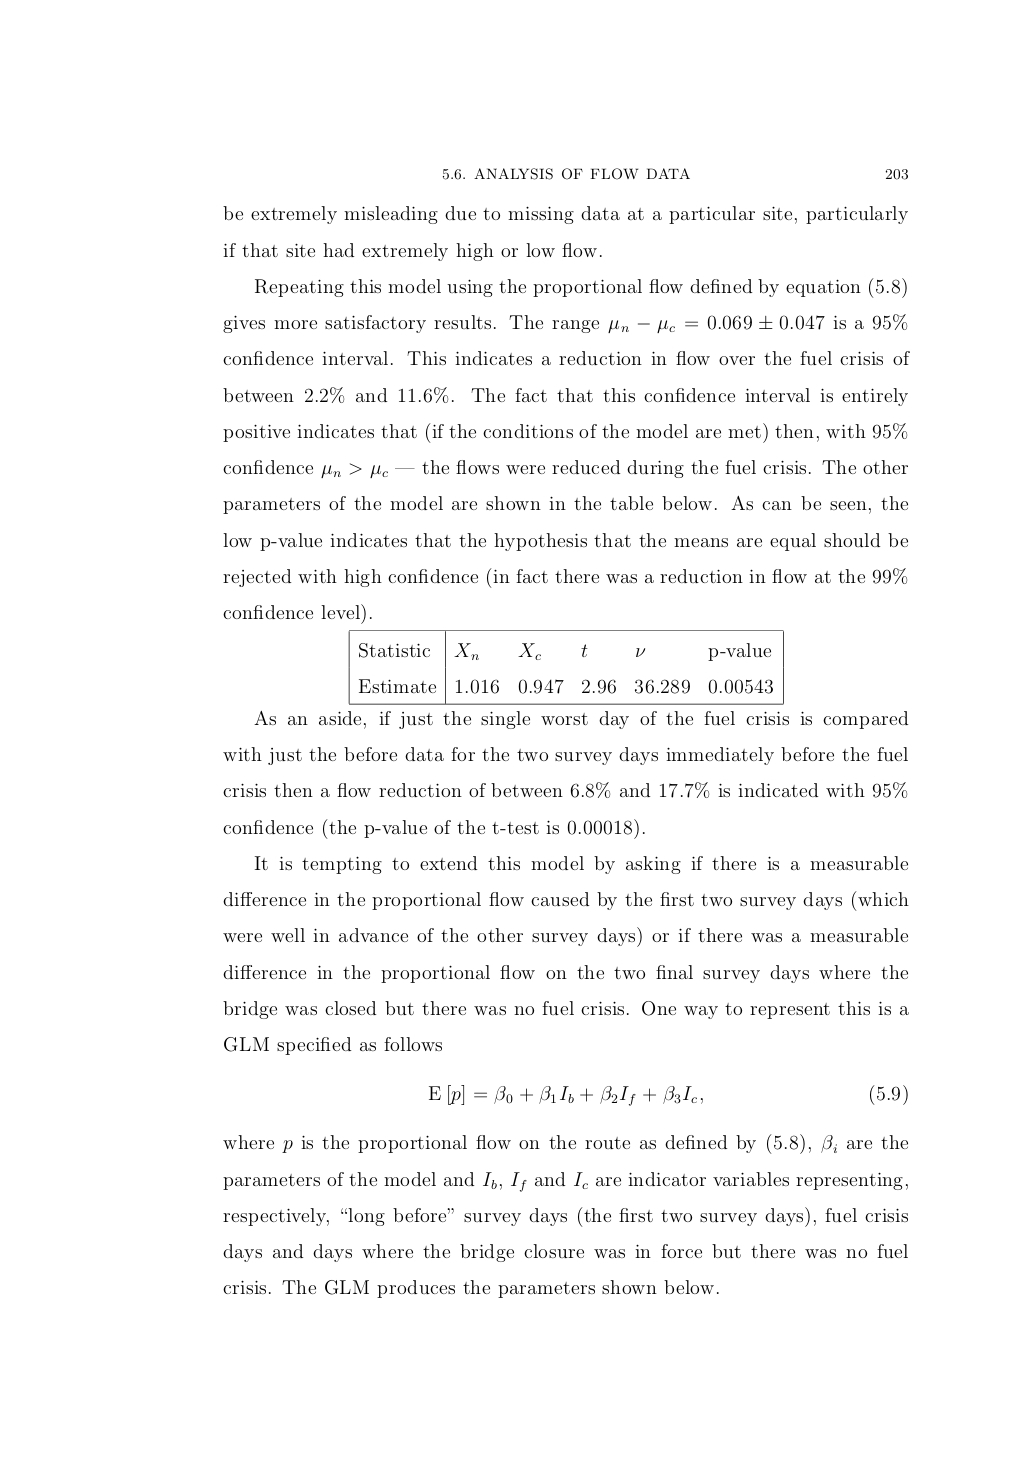Table: (348, 628, 783, 705)
formula: (428, 1084, 907, 1107)
